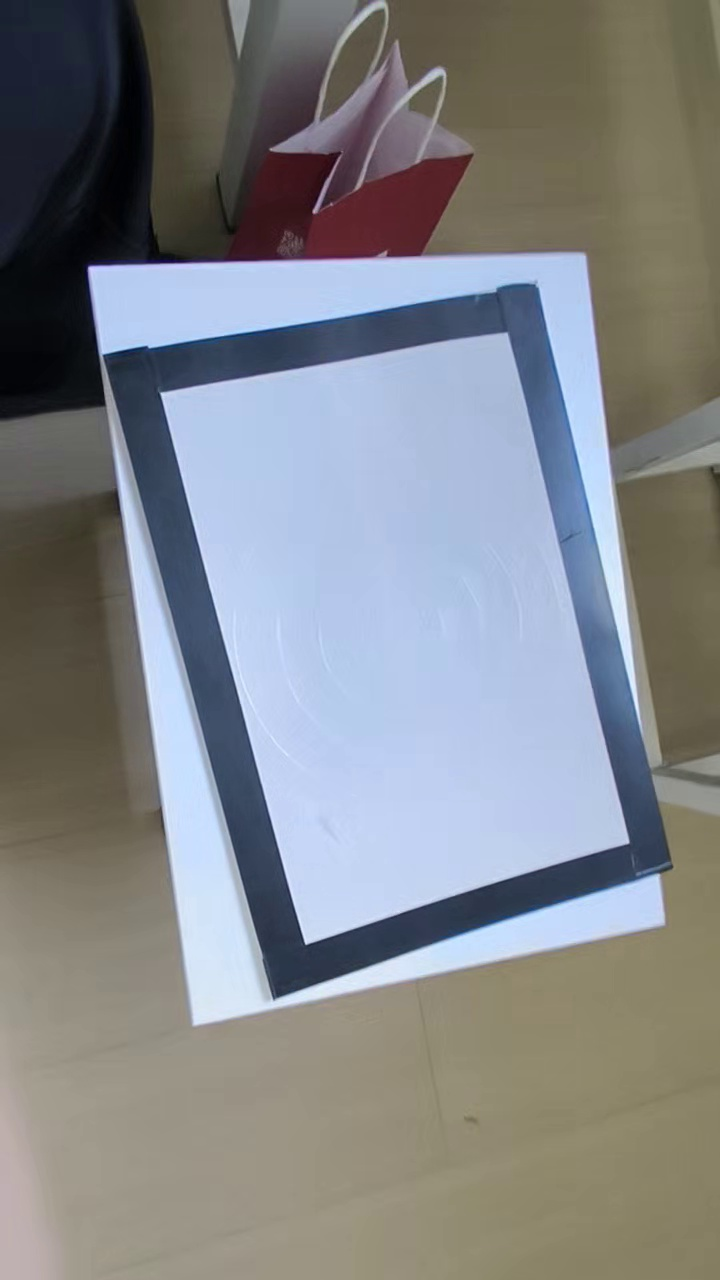board: (105, 283, 673, 995)
